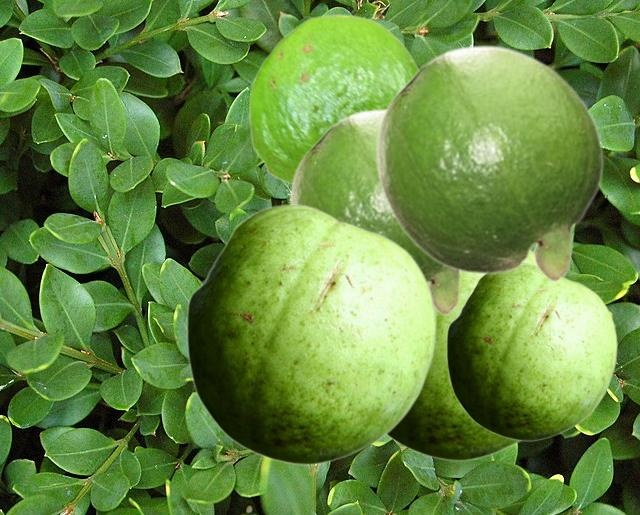guava: (186, 204, 435, 464), (374, 43, 603, 283), (288, 108, 462, 316), (446, 262, 616, 440), (387, 259, 532, 460), (248, 13, 418, 184)
